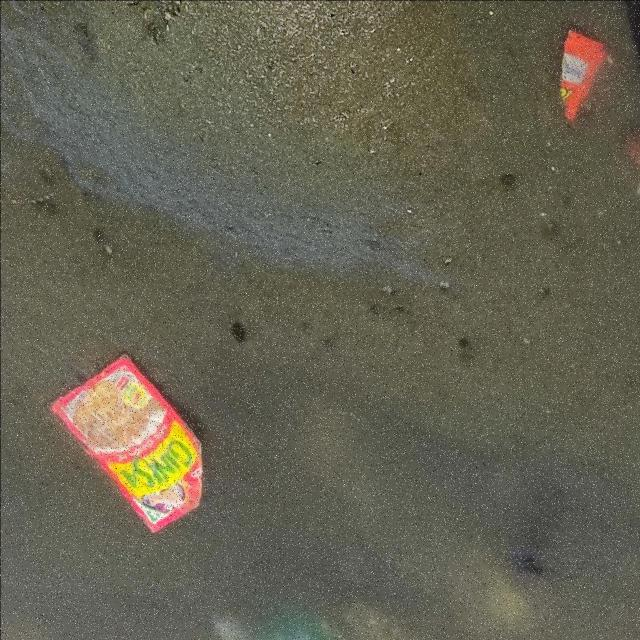plastic_waste: (53, 351, 203, 531), (561, 29, 611, 124)
